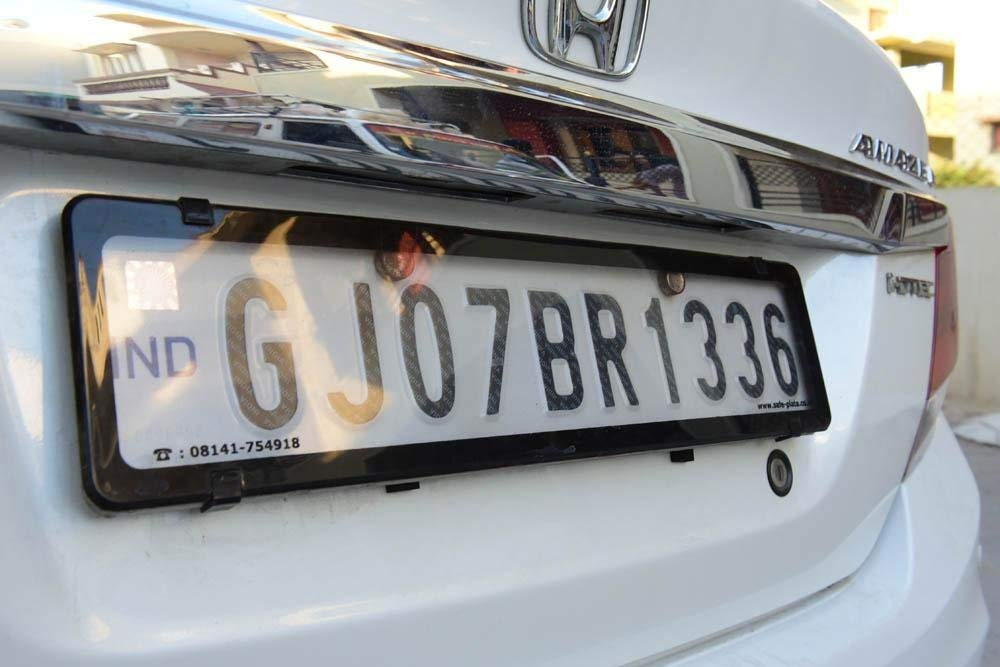numberplate: (60, 185, 834, 508)
